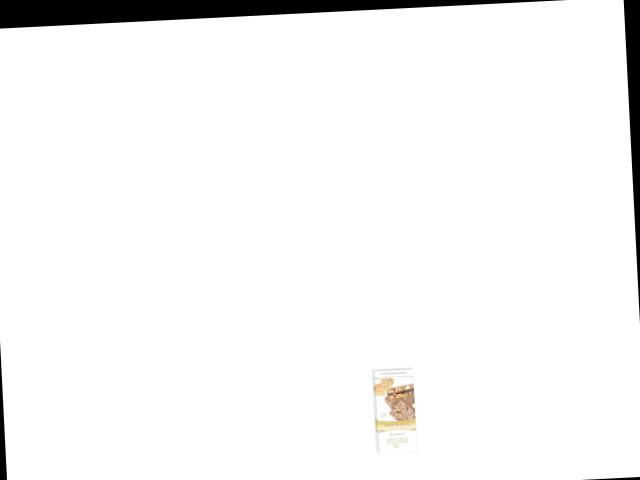chocolate: (369, 365, 418, 457)
